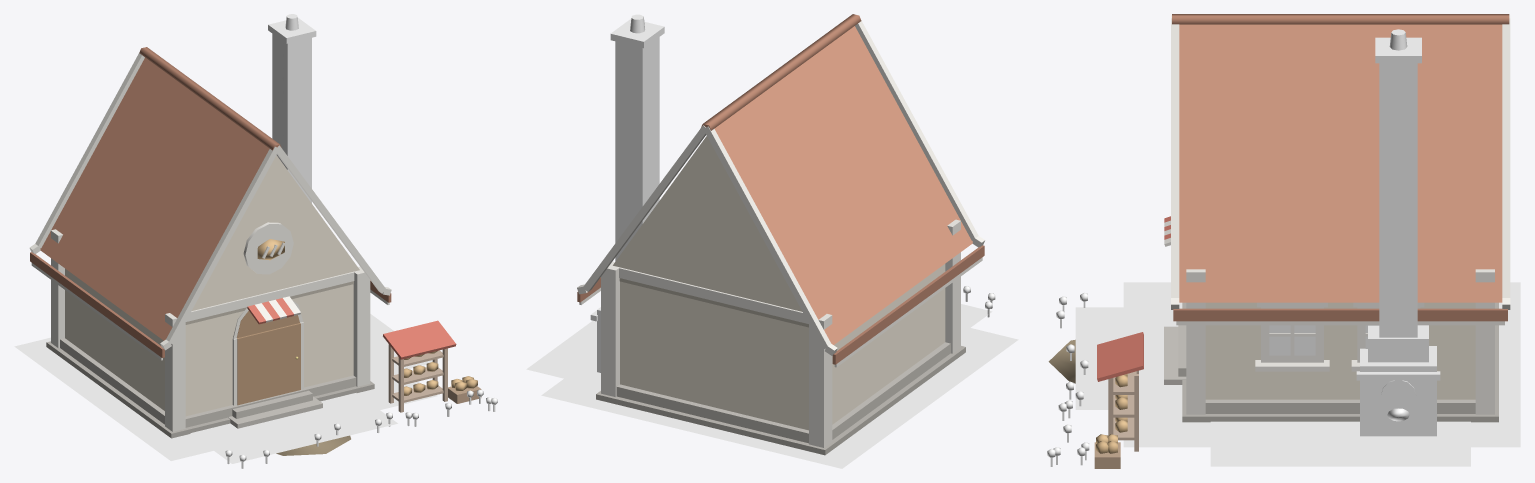
File: bakery_1.glb
3 renders of one model, left to right at view 1: azimuth 30°, elevation 25°; view 2: azimuth 150°, elevation 25°; view 3: azimuth 270°, elevation 25°, orthographic. The views are drawn at different scales.
Parts seen in each view (by area): view 1: body4, bakery_1, when_plan_true, body3; view 2: body4, bakery_1, when_plan_true; view 3: body4, bakery_1, when_plan_true, body3.
Boxes of the visible parts, x1,y1,x2,y2 form: body4: [29, 47, 456, 455]; bakery_1: [14, 314, 437, 463]; when_plan_true: [225, 14, 497, 468]; body3: [404, 351, 481, 403]; body4: [577, 14, 985, 455]; bakery_1: [526, 304, 1018, 468]; when_plan_true: [590, 14, 995, 372]; body4: [1048, 14, 1510, 451]; bakery_1: [1075, 282, 1520, 466]; when_plan_true: [1047, 29, 1440, 466]; body3: [1094, 374, 1127, 468].
Bounding box in the file's own units: 2.6 × 2.58 × 2.8.
